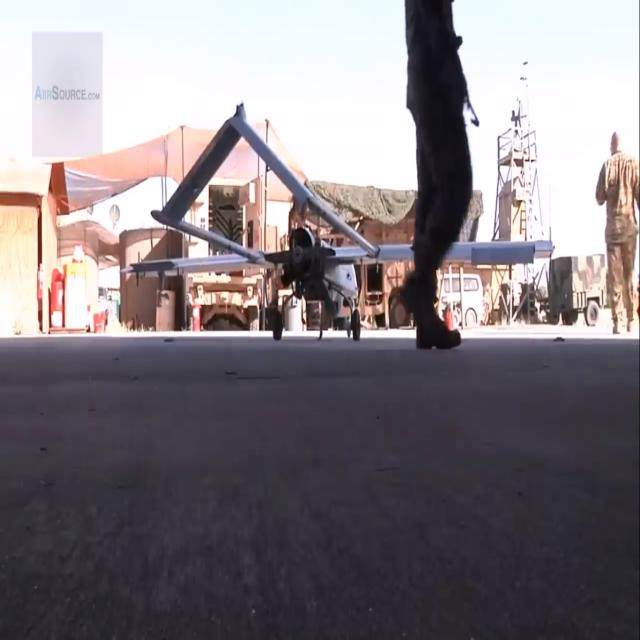drones: (89, 97, 560, 348)
